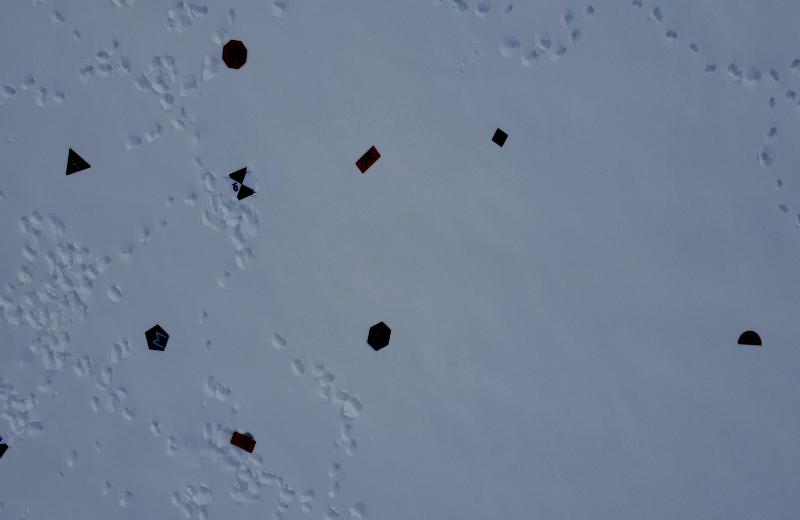Hexagon: (362, 317, 393, 352)
Octagon: (213, 36, 255, 74)
Pentagon: (142, 320, 172, 353)
Rectangle: (352, 142, 382, 176), (227, 427, 261, 457)
Semi Circle: (735, 330, 765, 352)
Square: (486, 125, 512, 150)
Triangle: (59, 144, 96, 181)
